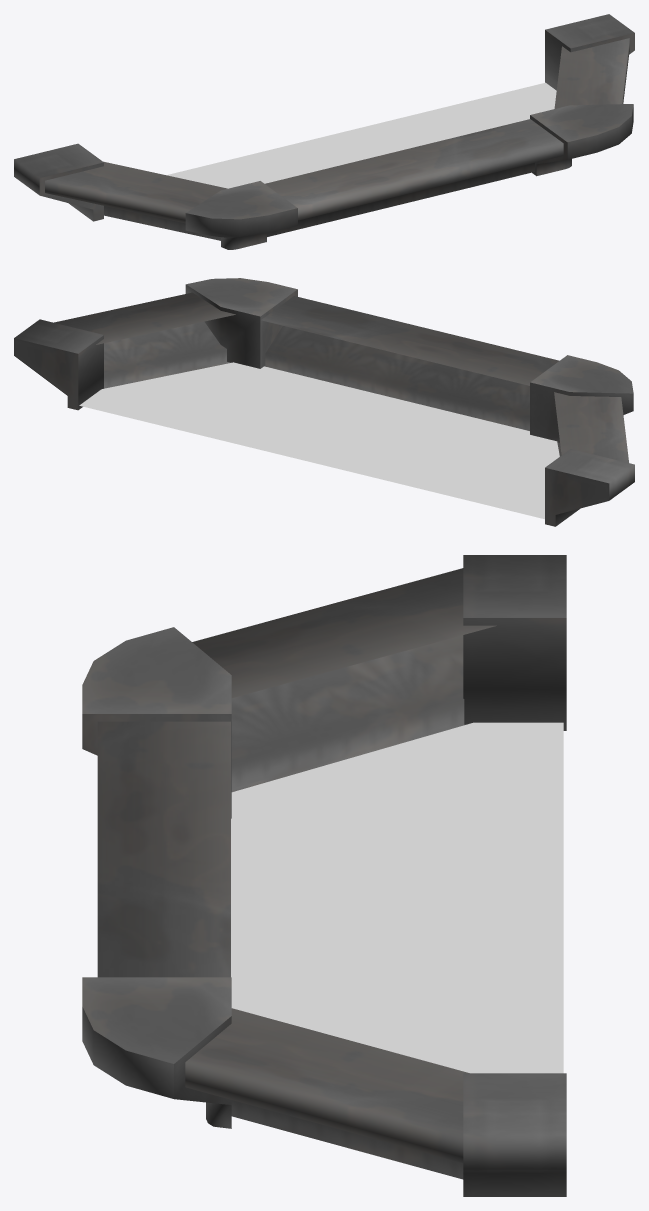
The model's file is Window_07_Cap.fbx.
3 renders of one model, top to bottom at view 1: azimuth 30°, elevation 25°; view 2: azimuth 150°, elevation 25°; view 3: azimuth 270°, elevation 25°, orthographic. The views are drawn at different scales.
Visible parts, largest first — view 1: Window_07_Cap; view 2: Window_07_Cap; view 3: Window_07_Cap.
Part boxes in pixels (x1,y1,x2,y2): Window_07_Cap: (14,14,634,249); Window_07_Cap: (14,278,634,526); Window_07_Cap: (82,555,566,1196).
Size of the model in its own units: 3.15 by 0.2857 by 1.11.
